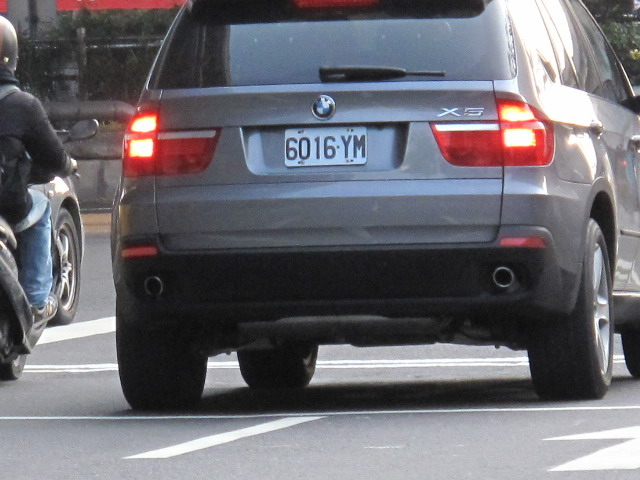plate: (283, 126, 370, 170)
